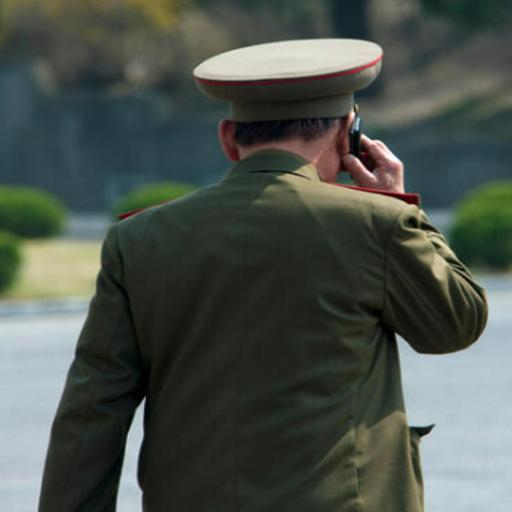north army: (84, 20, 471, 512)
